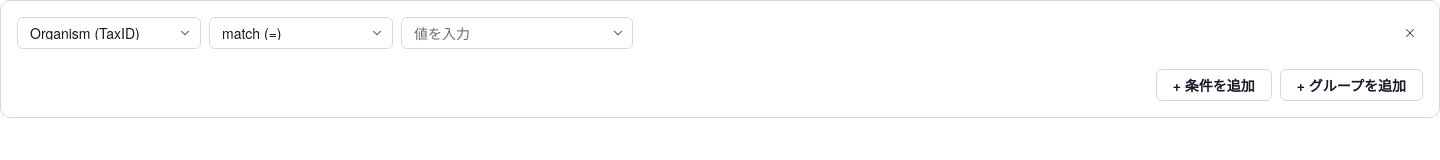
Test: ConditionRow facet value input › organismField_optionLabelShowsScientificNameWithTaxId
Press the mouse on the dropdown labelled "値を入力" at x=517, y=33, box [401,17,633,49]
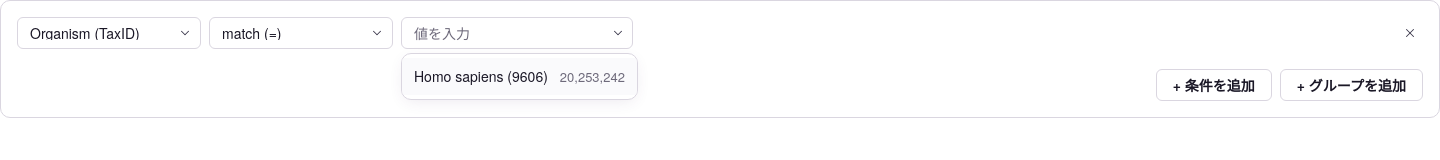
Expected: the option shows "Homo sapiens (9606)"
Click the option "Homo sapiens (9606) 20,253,242". click: x=519, y=76
box: [402,58,637,95]
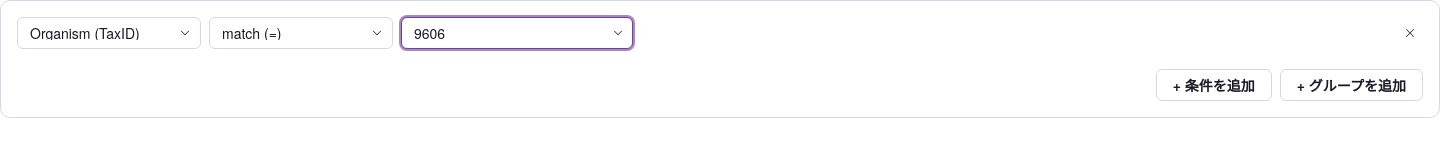
Expected: the dropdown named "値を入力" holds "9606", [401,17,633,49]
